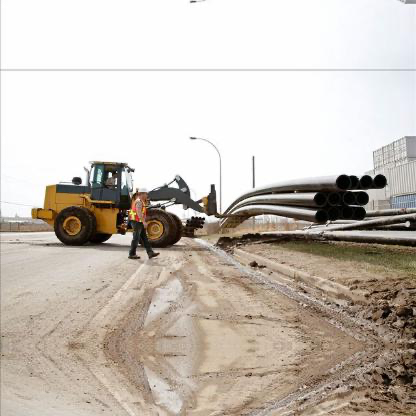helmet: (136, 186, 150, 200)
